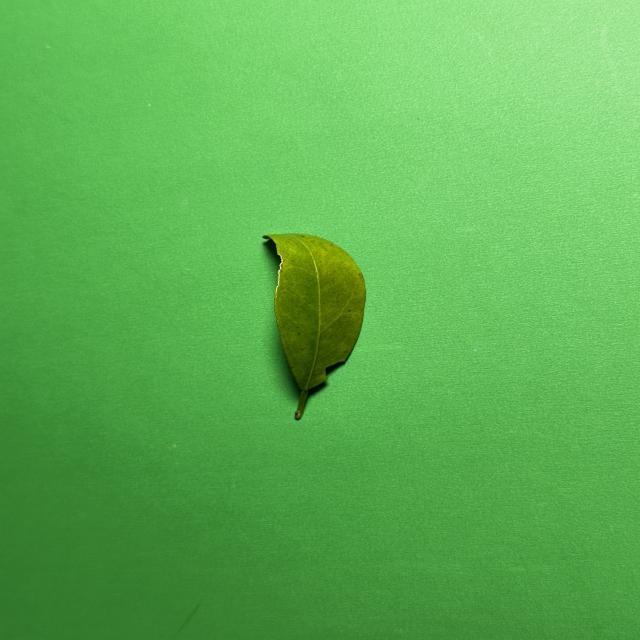greening: (263, 234, 366, 417)
